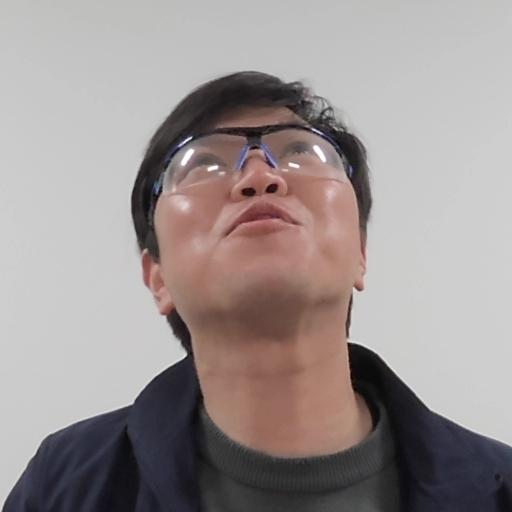glasses: (120, 72, 381, 353)
